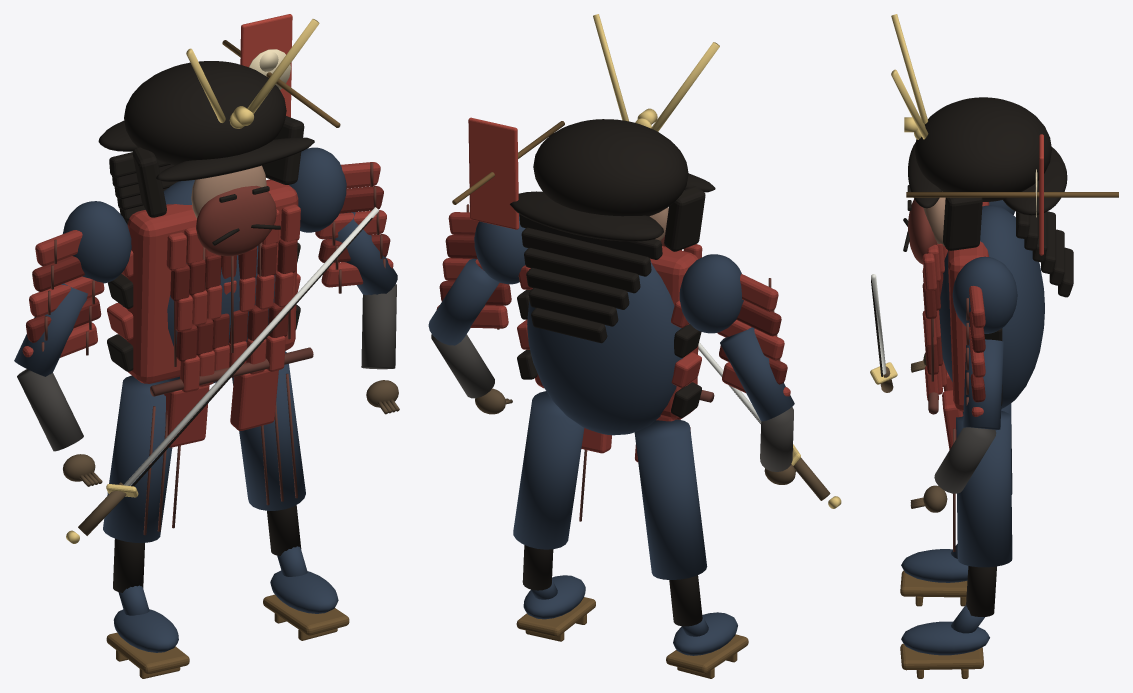
Rendered from takeda-07.glb.
3 views of the same model, side by side, from view 1: azimuth 30°, elevation 25°; view 2: azimuth 150°, elevation 25°; view 3: azimuth 270°, elevation 25° (orthographic). The views are drawn at different scales.
Visible parts, largest first — view 1: kabuto_helmet_bowl, do_cuirass_core, left_hakama_outer_fold, right_hakama_outer_fold, mempo_cheek_mask, left_rounded_shoulder_undercloth, right_rounded_shoulder_undercloth, left_forearm_kote, helmet_front_brim, right_forearm_kote, left_upper_arm_cloth, kusazuri_front_right (+50 smaller); view 2: cloth_torso_underlayer, kabuto_helmet_bowl, left_hakama_outer_fold, right_hakama_outer_fold, banner_cloth, left_rounded_shoulder_undercloth, helmet_rear_flare, left_upper_arm_cloth, right_upper_arm_cloth, shikoro_neck_guard_1, right_rounded_shoulder_undercloth, shikoro_neck_guard_2 (+26 smaller); view 3: kabuto_helmet_bowl, cloth_torso_underlayer, right_hakama_outer_fold, right_rounded_shoulder_undercloth, right_upper_arm_cloth, right_forearm_kote, do_cuirass_core, right_tabi_sock, right_fukigaeshi_flare, left_tabi_sock, helmet_rear_flare, right_geta_sole (+21 smaller).
Part boxes in pixels (x1,y1,x2,y2): kabuto_helmet_bowl: (124, 61, 286, 165); do_cuirass_core: (126, 179, 298, 383); left_hakama_outer_fold: (103, 375, 172, 542); right_hakama_outer_fold: (232, 351, 305, 510); mempo_cheek_mask: (196, 185, 276, 256); left_rounded_shoulder_undercloth: (63, 201, 131, 283); right_rounded_shoulder_undercloth: (289, 147, 346, 232); left_forearm_kote: (17, 369, 83, 451); helmet_front_brim: (156, 137, 314, 181); right_forearm_kote: (361, 284, 396, 369); left_upper_arm_cloth: (14, 283, 87, 376); kusazuri_front_right: (230, 369, 278, 430); cloth_torso_underlayer: (527, 261, 683, 435); kabuto_helmet_bowl: (533, 119, 688, 216); left_hakama_outer_fold: (634, 419, 707, 579); right_hakama_outer_fold: (513, 391, 584, 549); banner_cloth: (468, 117, 519, 229); left_rounded_shoulder_undercloth: (679, 254, 743, 333); helmet_rear_flare: (510, 191, 663, 241); left_upper_arm_cloth: (720, 327, 794, 421); right_upper_arm_cloth: (428, 258, 499, 345); shikoro_neck_guard_1: (521, 227, 651, 276); right_rounded_shoulder_undercloth: (474, 214, 527, 284); shikoro_neck_guard_2: (524, 248, 640, 293); kabuto_helmet_bowl: (914, 97, 1051, 201); cloth_torso_underlayer: (939, 205, 1044, 408); right_hakama_outer_fold: (956, 411, 1012, 567); right_rounded_shoulder_undercloth: (952, 256, 1017, 333); right_upper_arm_cloth: (963, 339, 1003, 430); right_forearm_kote: (934, 427, 996, 493); do_cuirass_core: (948, 202, 989, 411); right_tabi_sock: (901, 621, 989, 655); right_fukigaeshi_flare: (943, 197, 982, 250); left_tabi_sock: (901, 549, 968, 582); helmet_rear_flare: (1003, 147, 1067, 215); right_geta_sole: (900, 643, 983, 670).
Bounding box in the file's own units: 1.19 × 1.91 × 0.7252.
